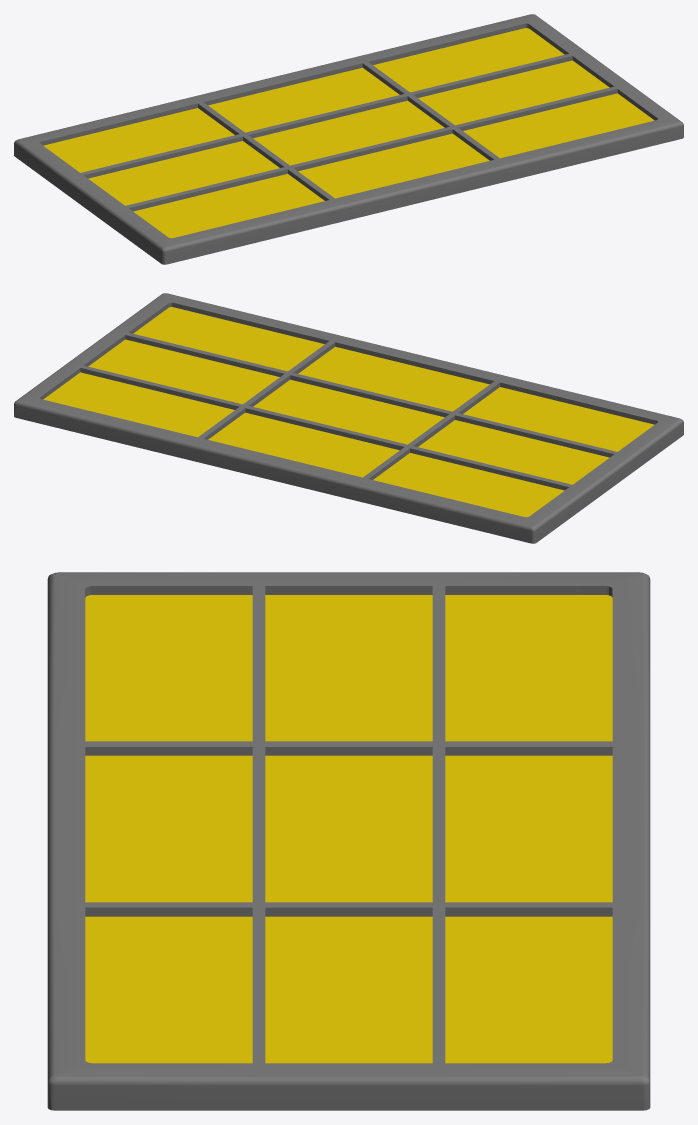
The model's file is moneyrun (1).fbx.
3 renders of one model, top to bottom at view 1: azimuth 30°, elevation 25°; view 2: azimuth 150°, elevation 25°; view 3: azimuth 270°, elevation 25°, orthographic. The views are drawn at different scales.
Visible parts, largest first — view 1: pCube4; view 2: pCube4; view 3: pCube4.
Part boxes in pixels (x1=…): pCube4: x1=14, y1=14, x2=683, y2=264; pCube4: x1=14, y1=293, x2=683, y2=543; pCube4: x1=47, y1=572, x2=650, y2=1110.
Bounding box in the file's own units: 491 × 14.06 × 245.
